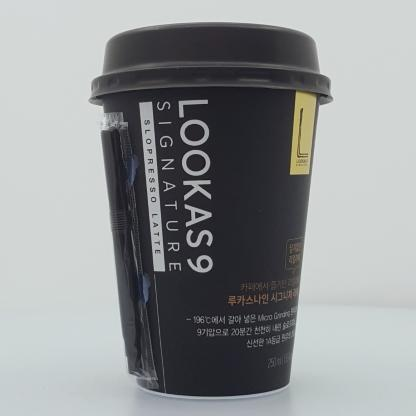-------------: (88, 21, 334, 398)
